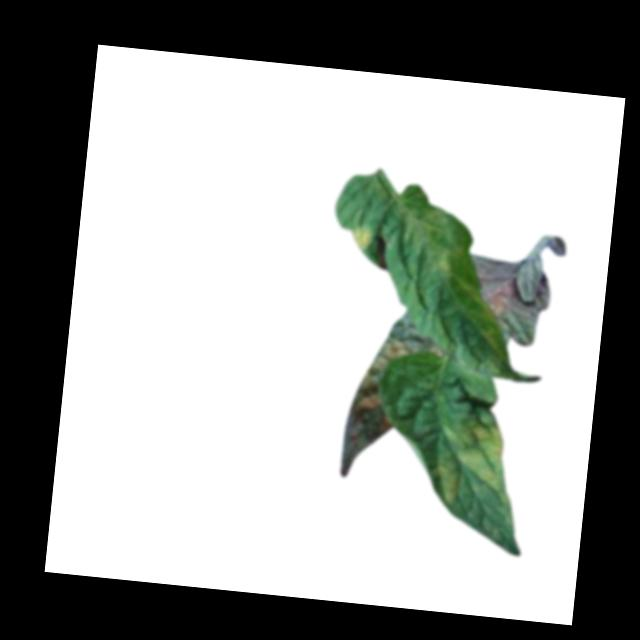Leaf_Mold: (430, 411, 520, 518), (462, 253, 553, 346), (339, 357, 398, 479), (369, 308, 446, 364), (350, 223, 373, 254)
